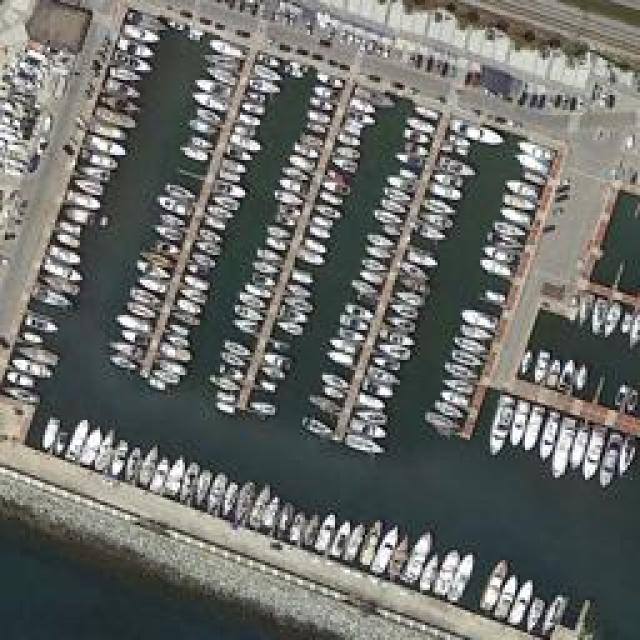Port: (0, 2, 638, 640)
